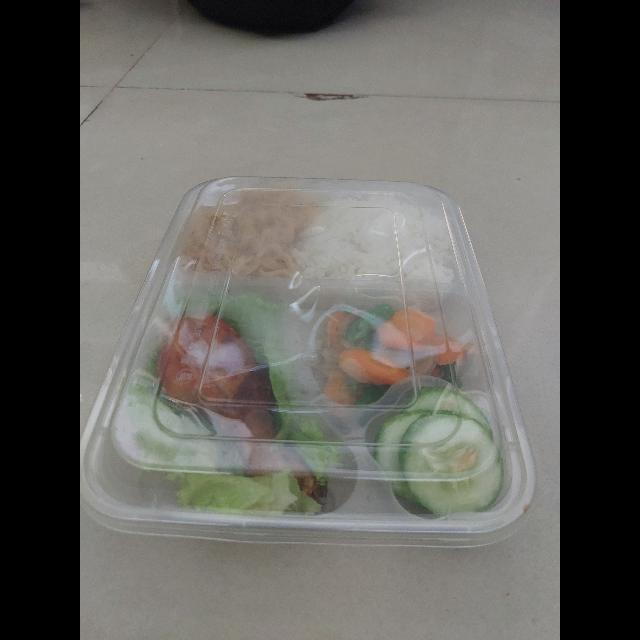bento: (82, 169, 550, 552)
